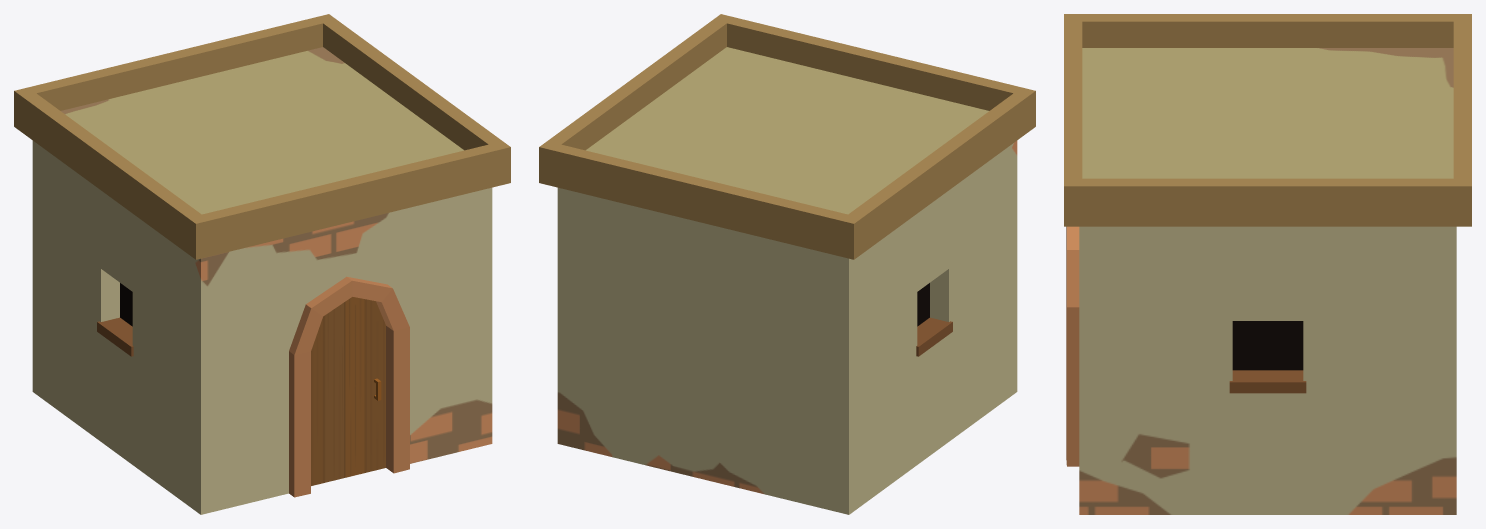
The model's file is Desert Building 03.fbx.
3 views of the same model, side by side, from view 1: azimuth 30°, elevation 25°; view 2: azimuth 150°, elevation 25°; view 3: azimuth 270°, elevation 25° (orthographic). The views are drawn at different scales.
Parts seen in each view (by area): view 1: Desert_Building_03, Door; view 2: Desert_Building_03; view 3: Desert_Building_03.
Part boxes in pixels (bbox=[...]): Desert_Building_03: bbox=[14, 14, 510, 514]; Door: bbox=[311, 297, 385, 485]; Desert_Building_03: bbox=[539, 14, 1035, 514]; Desert_Building_03: bbox=[1064, 14, 1471, 514].
Size of the model in its own units: 378 by 343 by 378.
